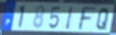1: (17, 5, 27, 30)
5: (48, 6, 62, 30)
8: (31, 5, 46, 31)
F: (78, 6, 97, 32)
I: (65, 5, 75, 31)
Q: (95, 8, 110, 32)
